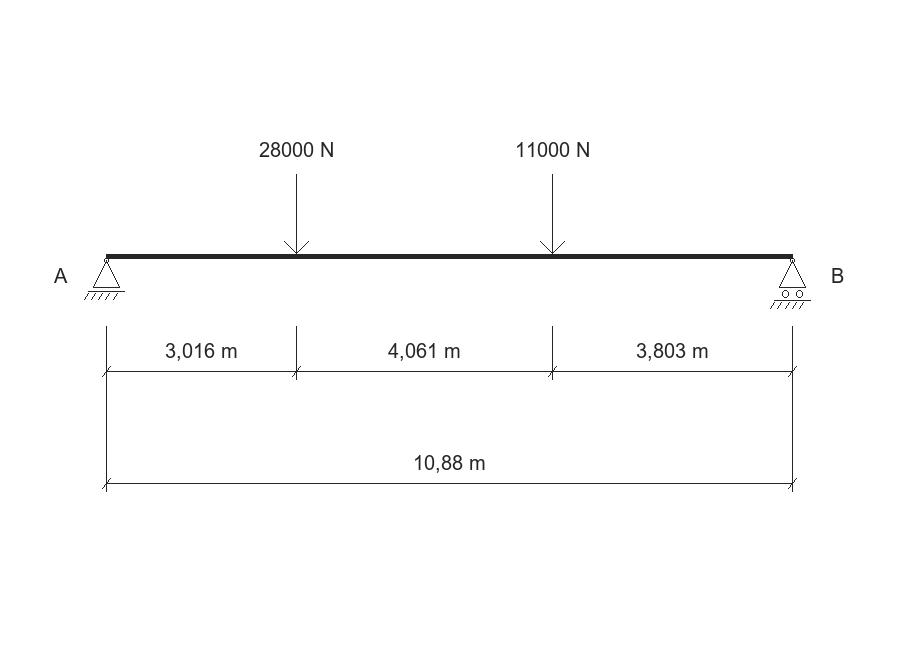pin_support: (84, 258, 125, 300)
point_load: (284, 174, 309, 254), (540, 174, 565, 254)
roller_support: (770, 258, 811, 309)
